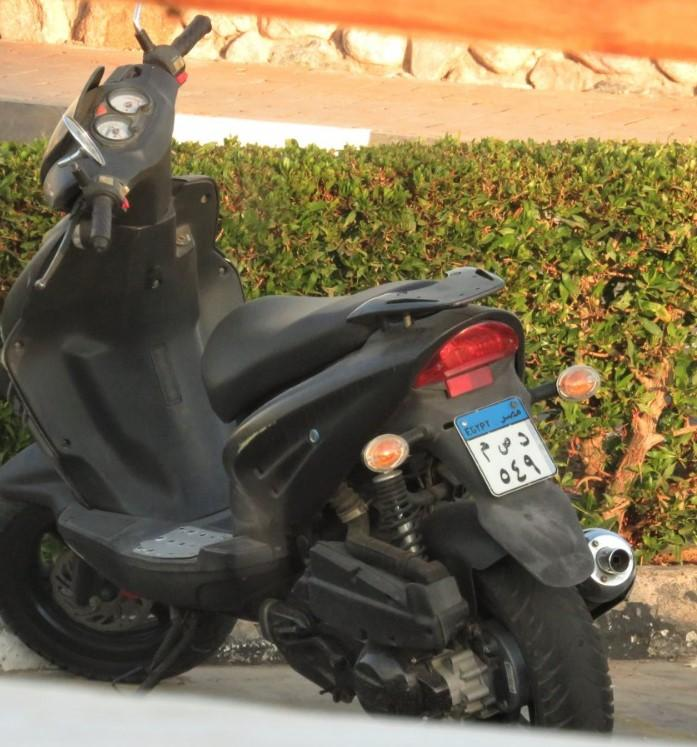License Plate: (453, 394, 558, 498)
